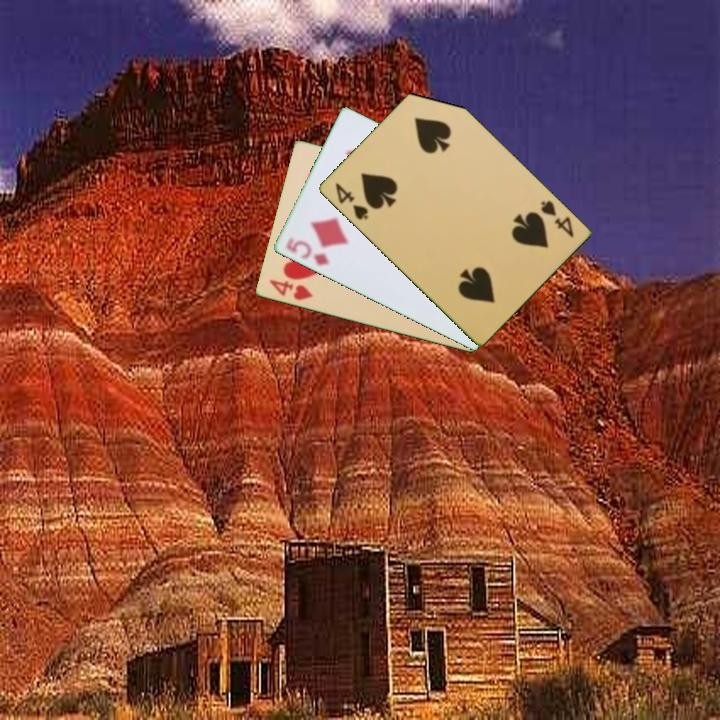4h: (265, 276, 316, 303)
4s: (331, 179, 371, 223), (536, 197, 576, 240)
5d: (282, 234, 331, 269)
